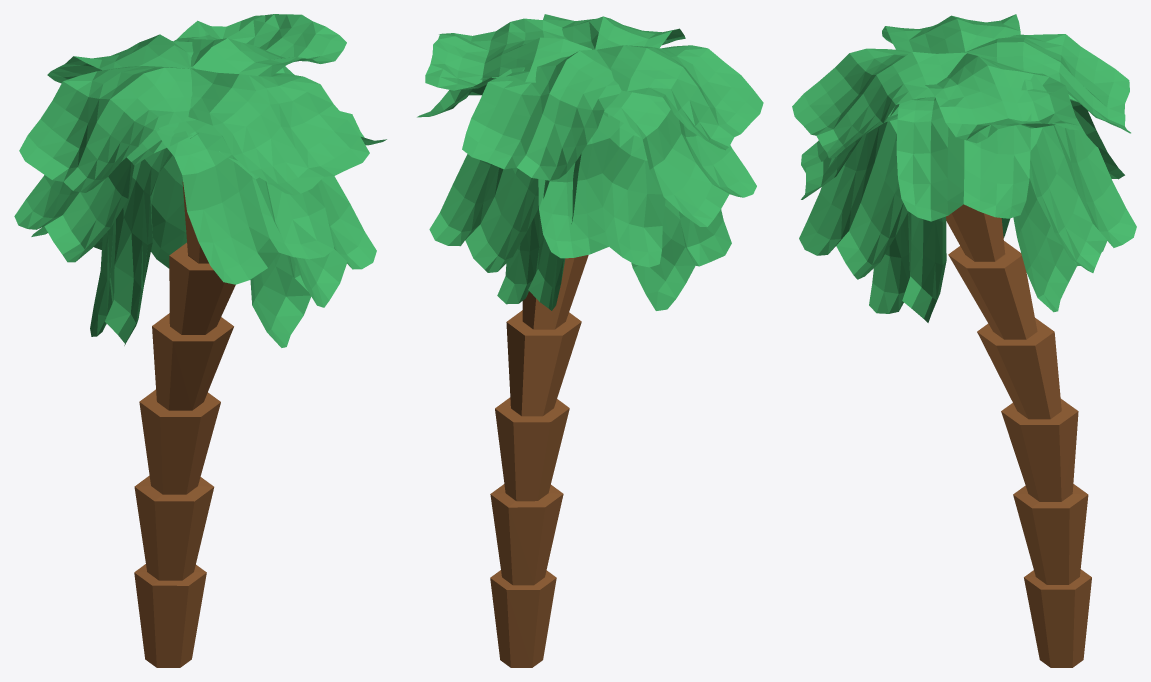
The model's file is palmtree.gltf.
The picture shows the model from 3 angles, left to right: view 1: azimuth 30°, elevation 25°; view 2: azimuth 150°, elevation 25°; view 3: azimuth 270°, elevation 25°; orthographic projection. The views are drawn at different scales.
Parts seen in each view (by area): view 1: Palm Tree Leaves 2, Palm Tree Base 2; view 2: Palm Tree Leaves 2, Palm Tree Base 2; view 3: Palm Tree Leaves 2, Palm Tree Base 2.
Boxes of the visible parts, left/top/right/bottom form: Palm Tree Leaves 2: left=14, top=14, right=386, bottom=347; Palm Tree Base 2: left=134, top=181, right=235, bottom=667; Palm Tree Leaves 2: left=417, top=14, right=763, bottom=310; Palm Tree Base 2: left=490, top=255, right=588, bottom=667; Palm Tree Leaves 2: left=792, top=14, right=1136, bottom=322; Palm Tree Base 2: left=946, top=204, right=1091, bottom=667.
Bounding box in the file's own units: 2.41 × 4.62 × 2.39.
